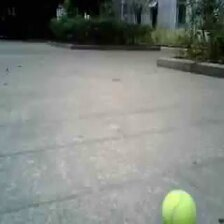tennis: (161, 189, 196, 224)
